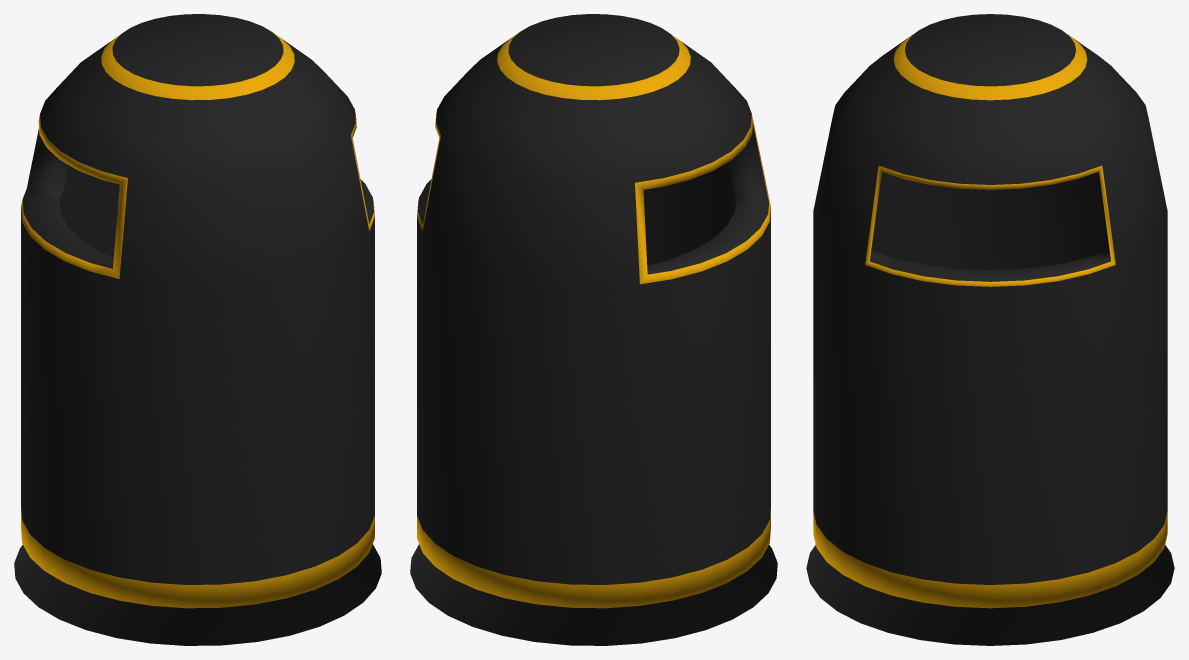
File: BlackBin.fbx
3 views of the same model, side by side, from view 1: azimuth 30°, elevation 25°; view 2: azimuth 150°, elevation 25°; view 3: azimuth 270°, elevation 25° (orthographic).
Parts seen in each view (by area): view 1: Cylinder; view 2: Cylinder; view 3: Cylinder.
Part boxes in pixels (x1=…): Cylinder: x1=14, y1=14, x2=381, y2=645; Cylinder: x1=410, y1=14, x2=777, y2=645; Cylinder: x1=806, y1=14, x2=1174, y2=645.
Size of the model in its own units: 145 by 226 by 145.
